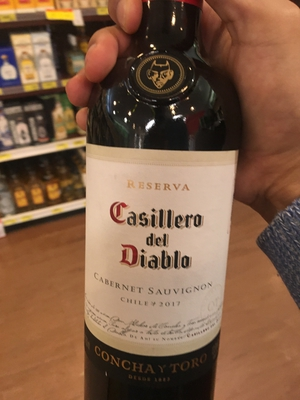casillero del diablo cabernet sauvignon: (76, 9, 242, 400)
